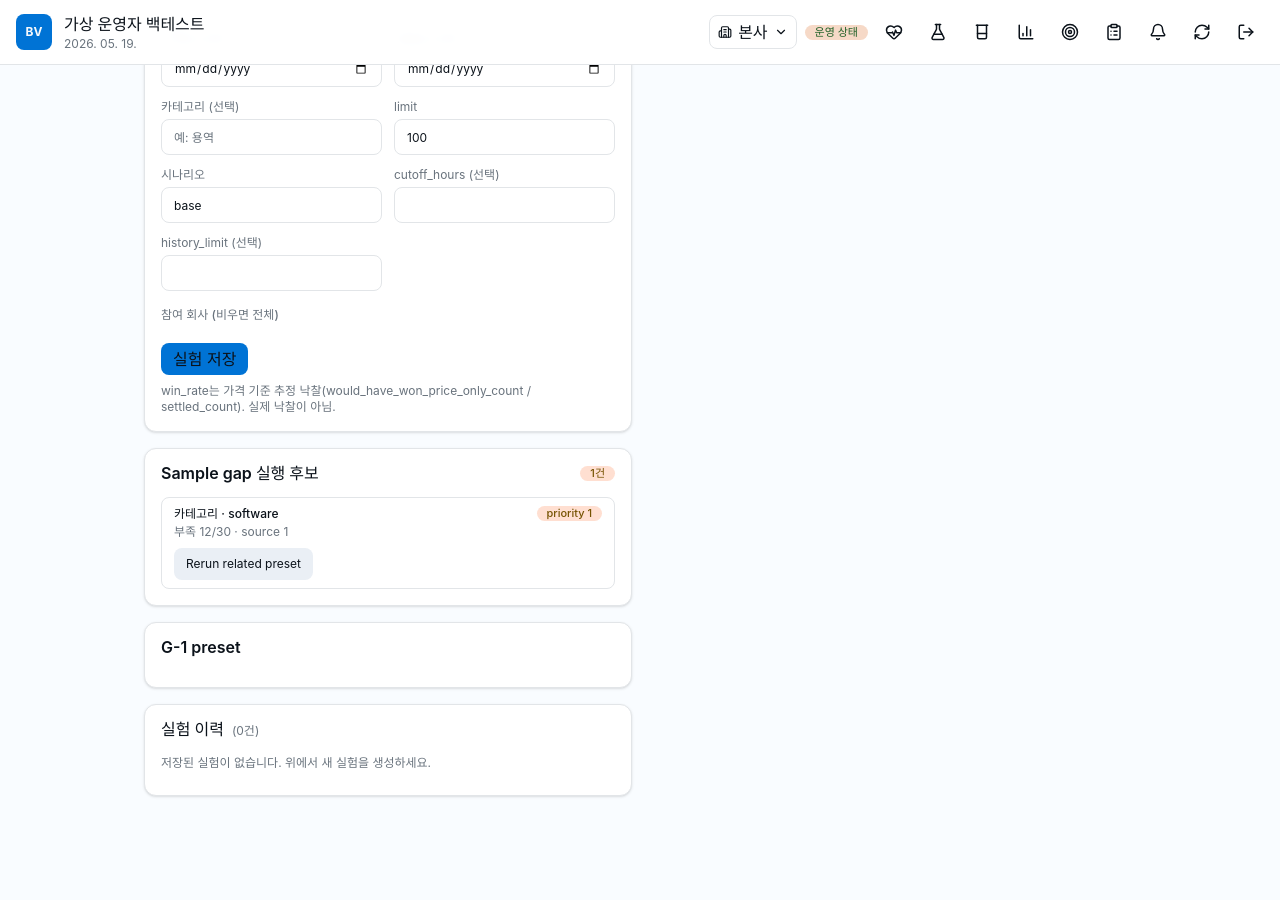
Scenario: ExperimentLabScreen sample-gap safety visibility › shows unresolved operator target and disables selection when operator scope is not ready
(page scrolled)
Expected: the element named "sample-gap 실행 후보" is shown, [144,448,632,606]
Click the button "Rerun related preset".
click(244, 564)  # box [174,548,313,580]
(page scrolled)
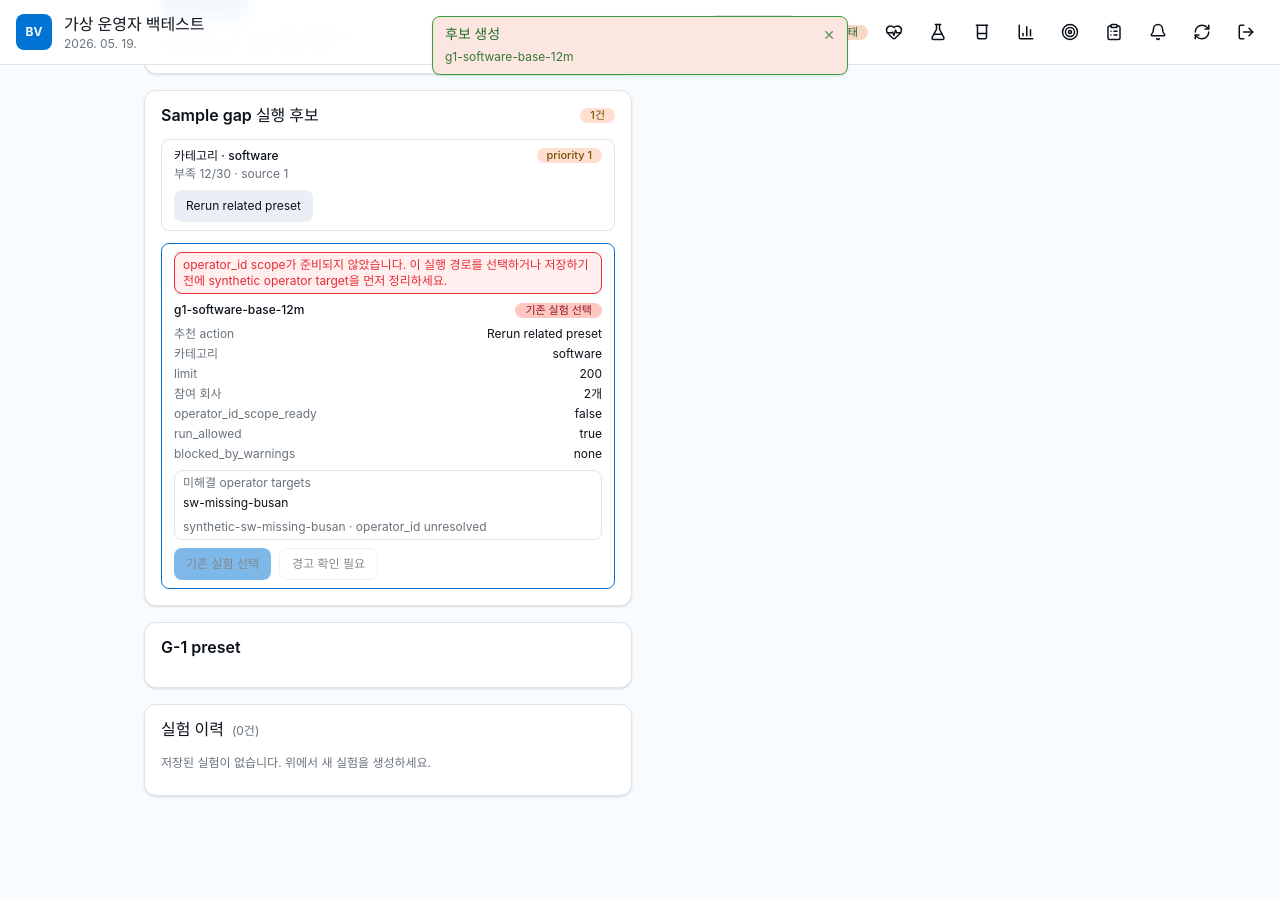
Now the text "operator_id_scope_ready" is shown, box [174,406,317,421]
Now the text "false" is shown, box [575,406,602,421]
Now the text "run_allowed" is shown, box [174,426,242,441]
